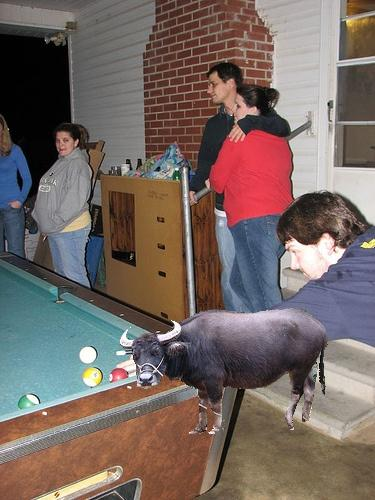tampered: (121, 309, 328, 434)
